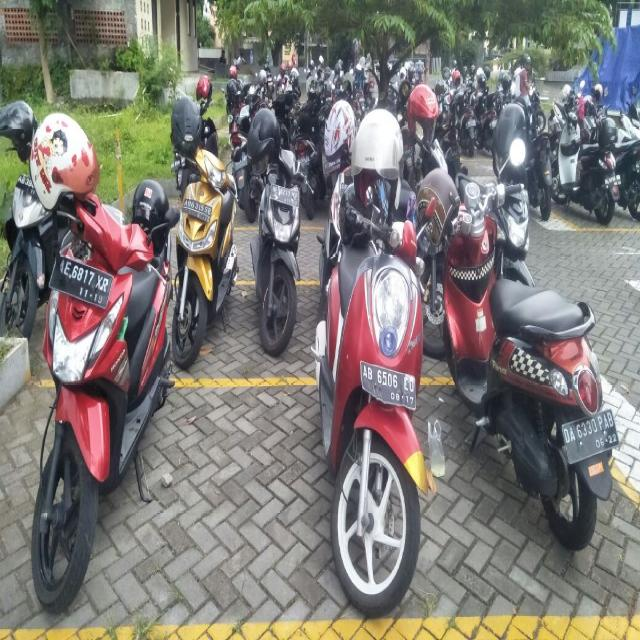plate: (48, 252, 111, 310), (360, 359, 417, 412), (561, 412, 619, 458), (268, 180, 299, 207), (182, 196, 212, 223)
